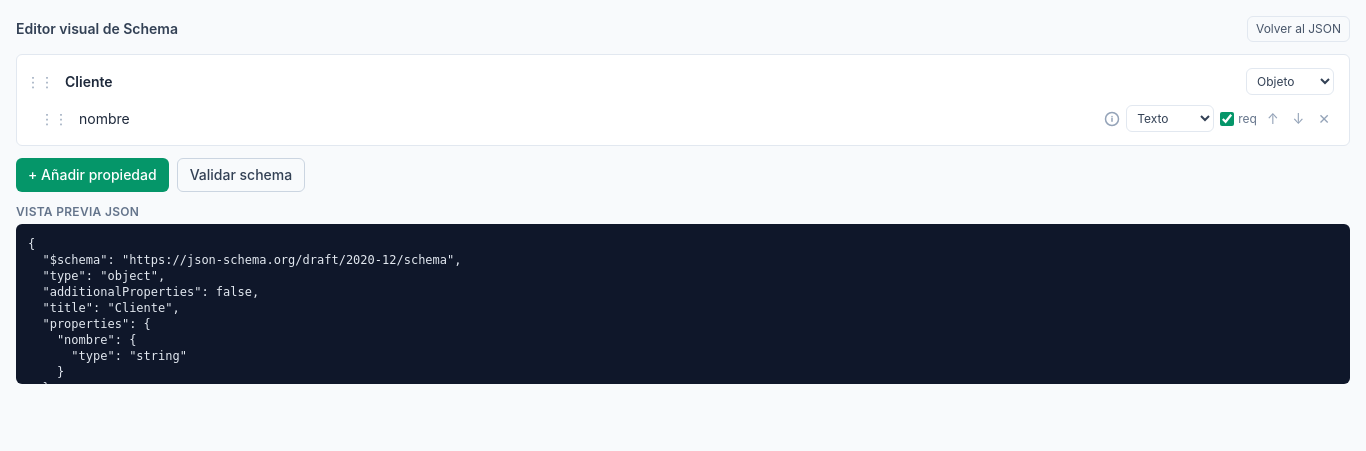
Test: VisualSchemaEditor › muestra el error de validación de forma accesible
The width and height of the screenshot is (1366, 451).
Step 1. Click the button "Validar schema" → x=241, y=175, box top-left (177, 158), bottom-right (305, 192)
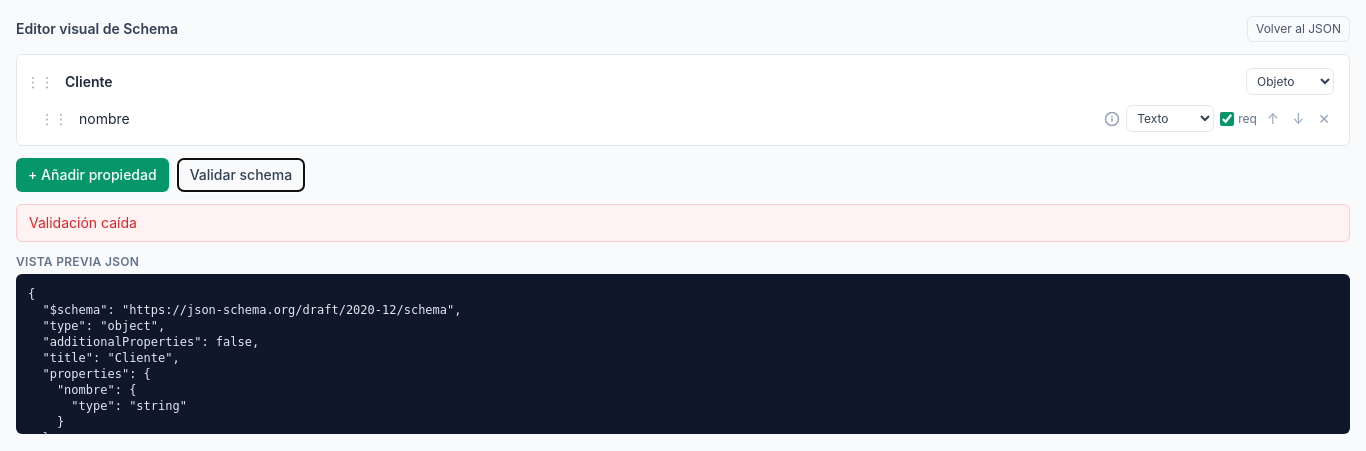
Check: the message reads "Validación caída", box top-left (29, 214), bottom-right (137, 231)
